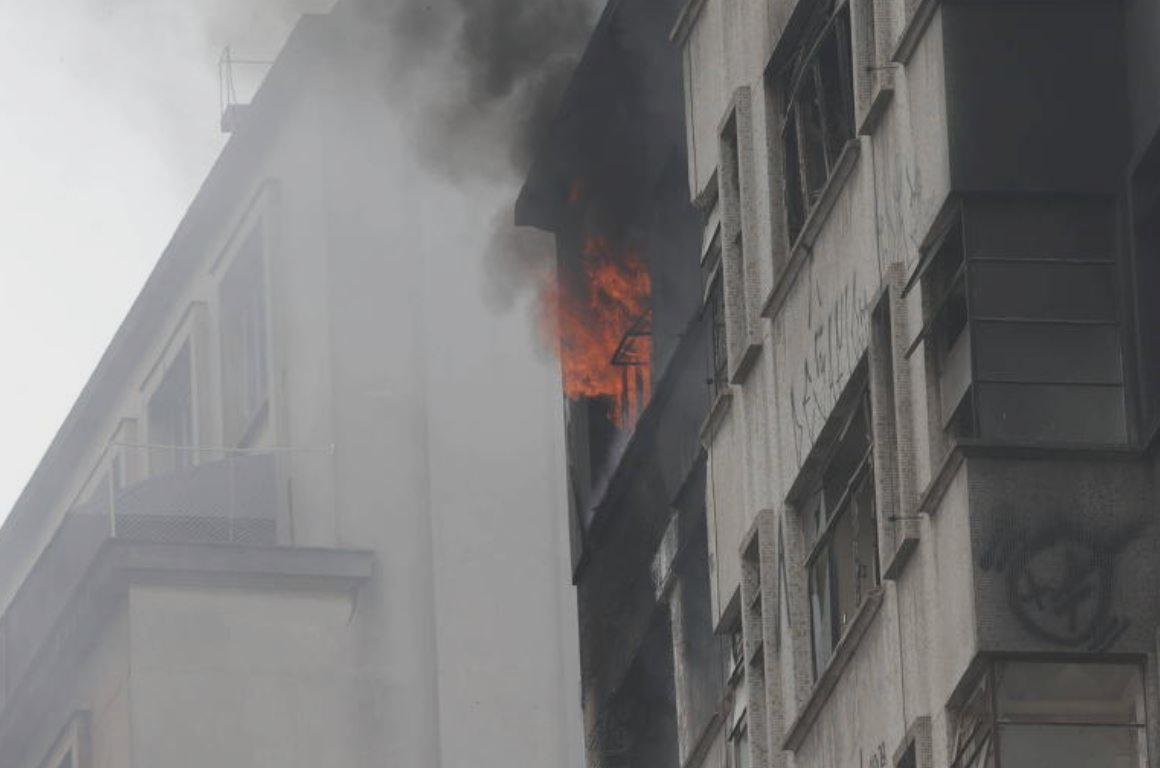Fire: (548, 233, 660, 428)
